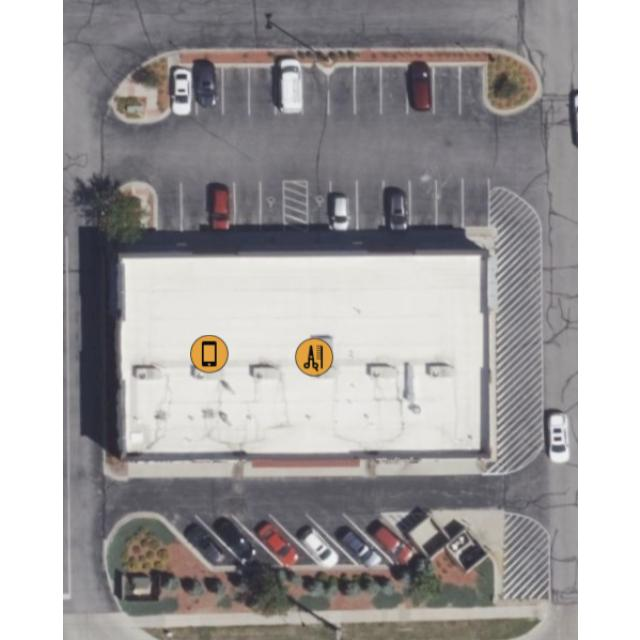Empty: (380, 65, 408, 115), (300, 66, 328, 114), (352, 66, 380, 114), (248, 68, 274, 116), (328, 66, 354, 114), (357, 182, 383, 230), (408, 182, 436, 226), (434, 68, 460, 114), (462, 181, 488, 227), (436, 182, 462, 228), (182, 185, 208, 231), (460, 66, 484, 114), (307, 182, 331, 230), (222, 70, 248, 114), (156, 183, 180, 230), (234, 184, 258, 226), (259, 184, 283, 226)
Parked: (307, 515, 401, 569), (271, 515, 359, 569), (234, 515, 321, 568), (197, 516, 283, 569), (344, 515, 426, 569), (162, 516, 245, 569), (170, 66, 197, 114), (407, 66, 433, 114), (277, 65, 301, 115), (208, 184, 234, 230), (330, 183, 356, 229), (383, 184, 409, 228), (197, 68, 221, 114)
